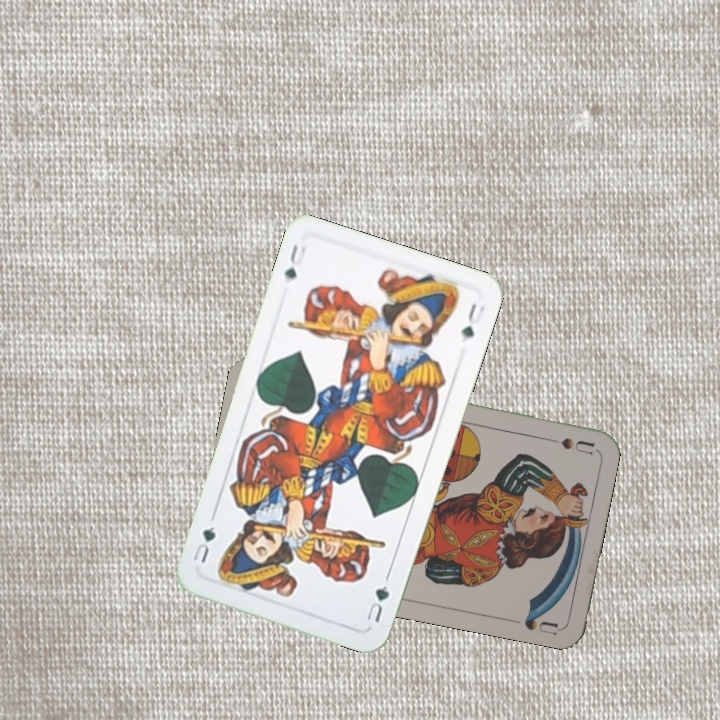GU: (362, 581, 392, 625), (280, 240, 309, 282)
SU: (536, 432, 596, 457)
